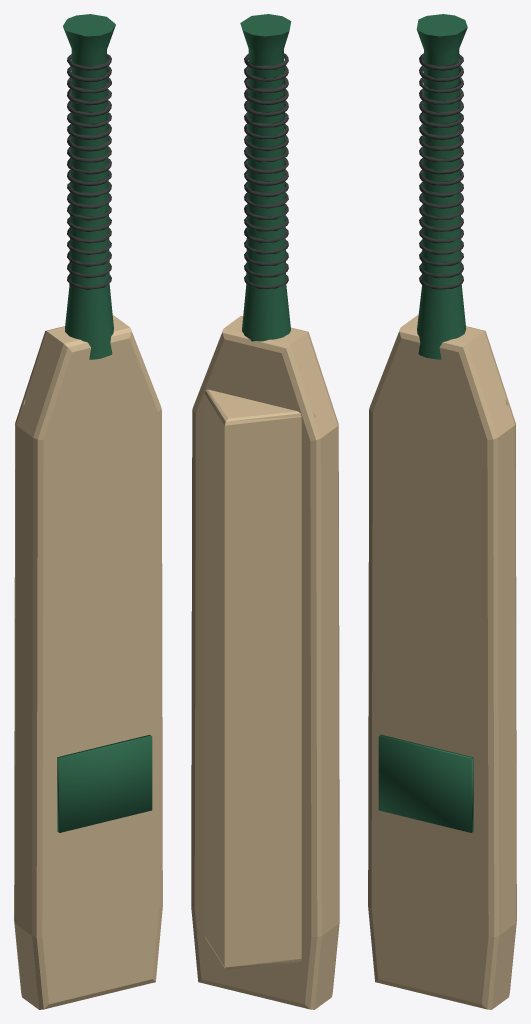
The model's file is bat.glb.
3 views of the same model, side by side, from view 1: azimuth 30°, elevation 25°; view 2: azimuth 150°, elevation 25°; view 3: azimuth 330°, elevation 25° (orthographic).
Parts seen in each view (by area): view 1: cricket-bat; view 2: cricket-bat; view 3: cricket-bat.
Part boxes in pixels (bbox=[...]): cricket-bat: bbox=[14, 14, 162, 1009]; cricket-bat: bbox=[191, 14, 339, 1009]; cricket-bat: bbox=[368, 14, 516, 1009].
Size of the model in its own units: 0.118 by 0.836 by 0.0914.
